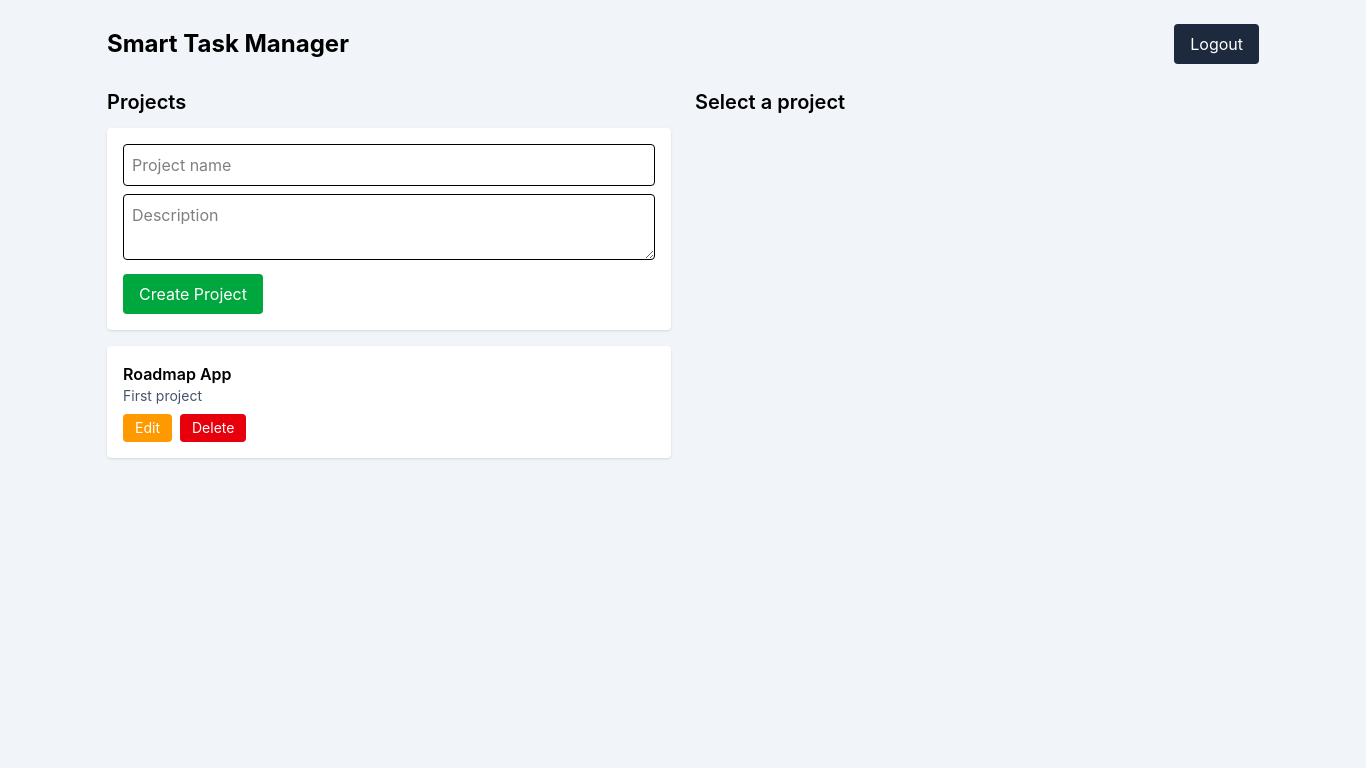
Test case: App integration › saves inline task edits successfully and refreshes the task row
The width and height of the screenshot is (1366, 768).
Click the heading "Roadmap App" at (177, 374), box [123,364,232,384]
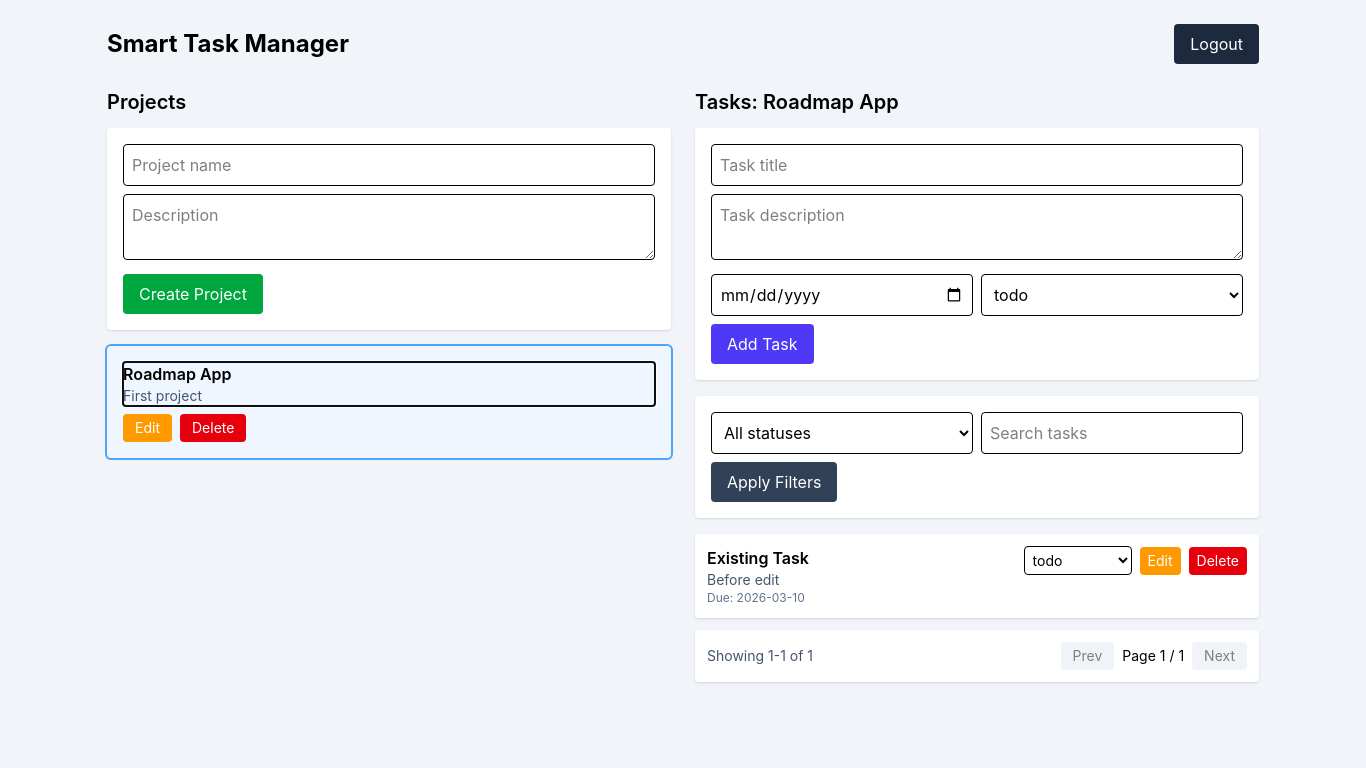
Now the element "Tasks: Roadmap App" is shown, box [695,88,1259,682]
Click the button "Edit" in the row of "Existing Task" at (1160, 560), box [1140,546,1181,574]
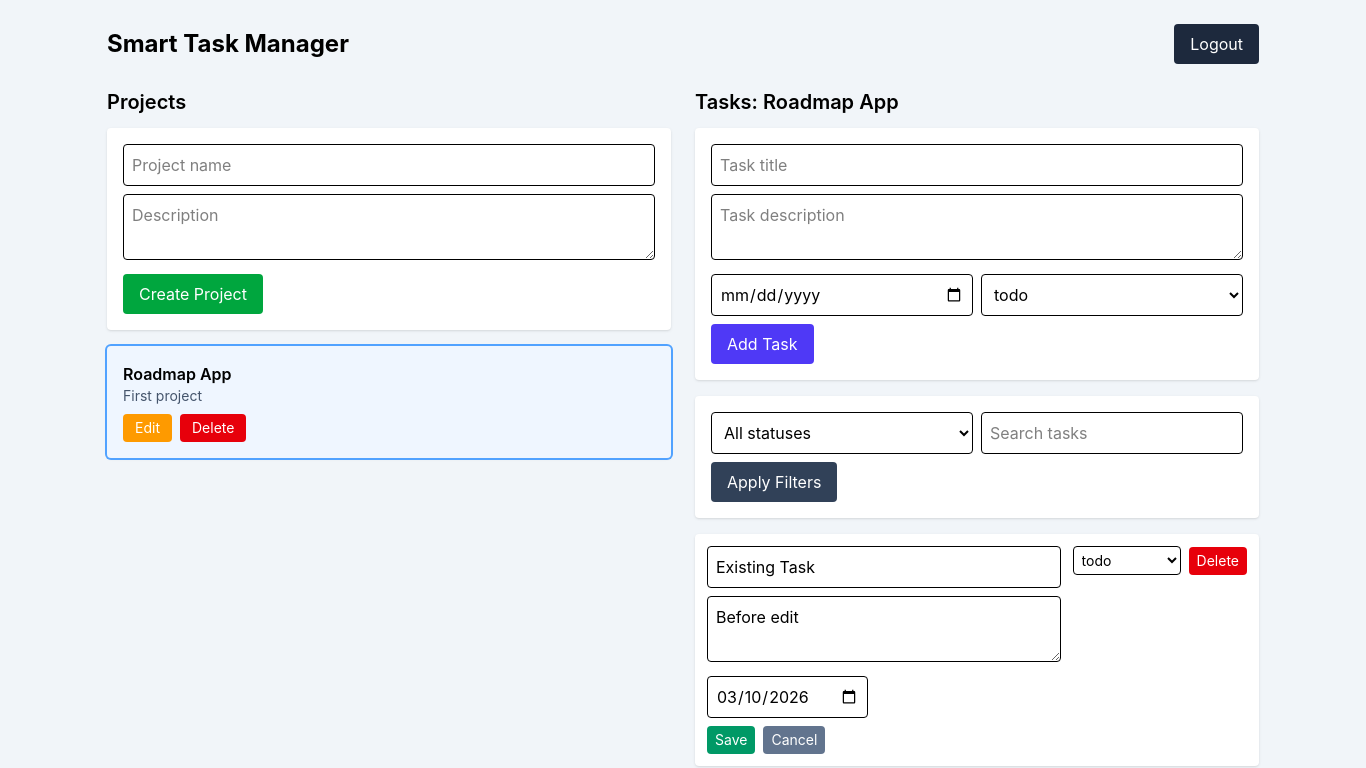
Now the 2nd date field is shown, box [707,676,868,718]
Replace the text in the field showing "Existing Task" with "Edited Task" at (884, 567), box [707,546,1061,588]
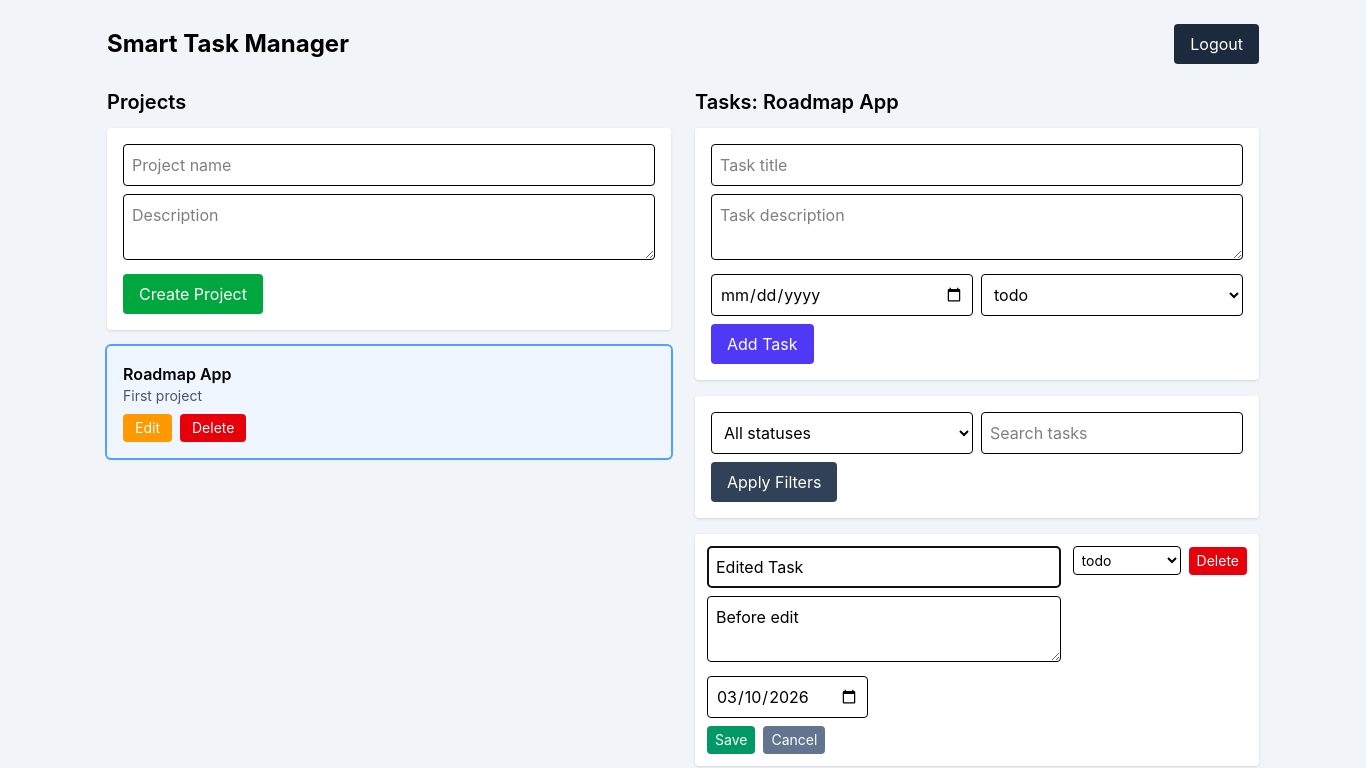
Replace the text in the text box showing "Before edit" with "After edit" at (884, 629), box [707,596,1061,662]
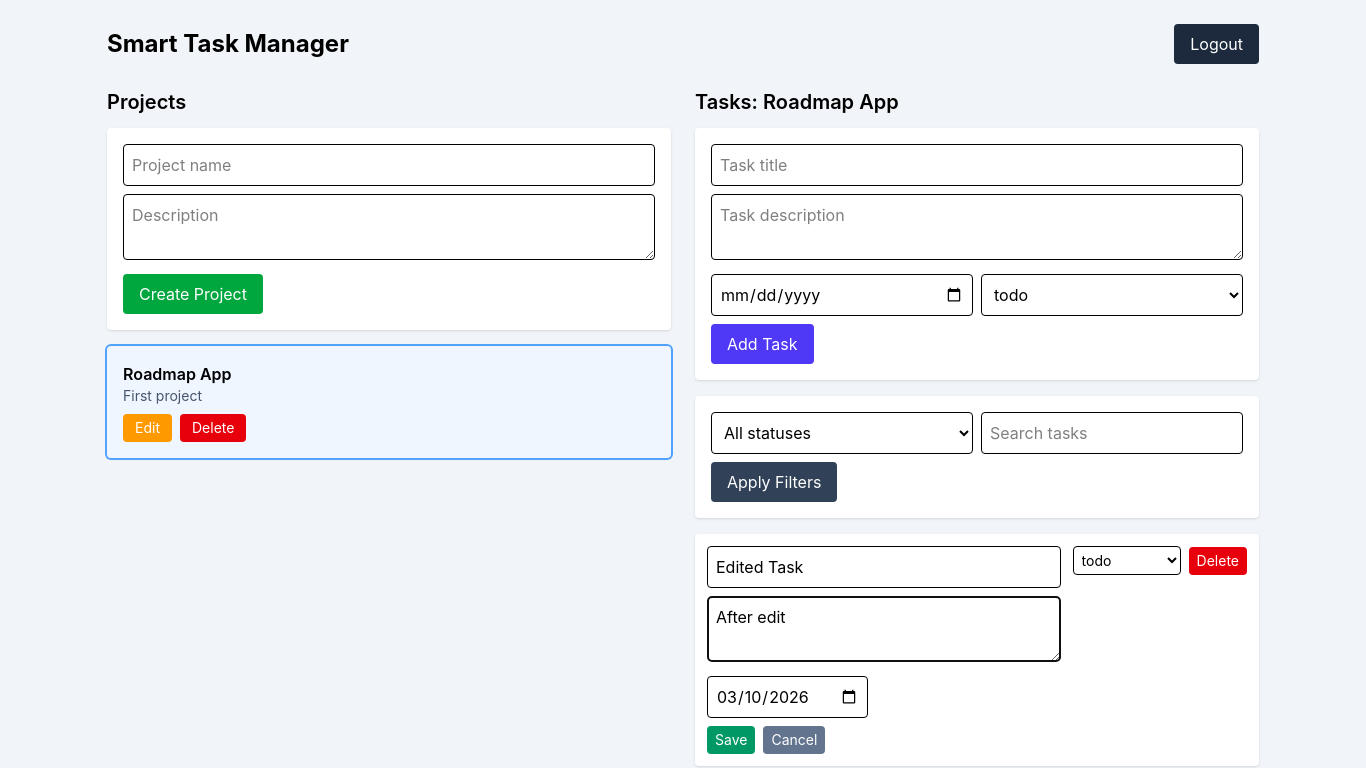
Type "2026-03-12" into the 2nd date field at (788, 697), box [707,676,868,718]
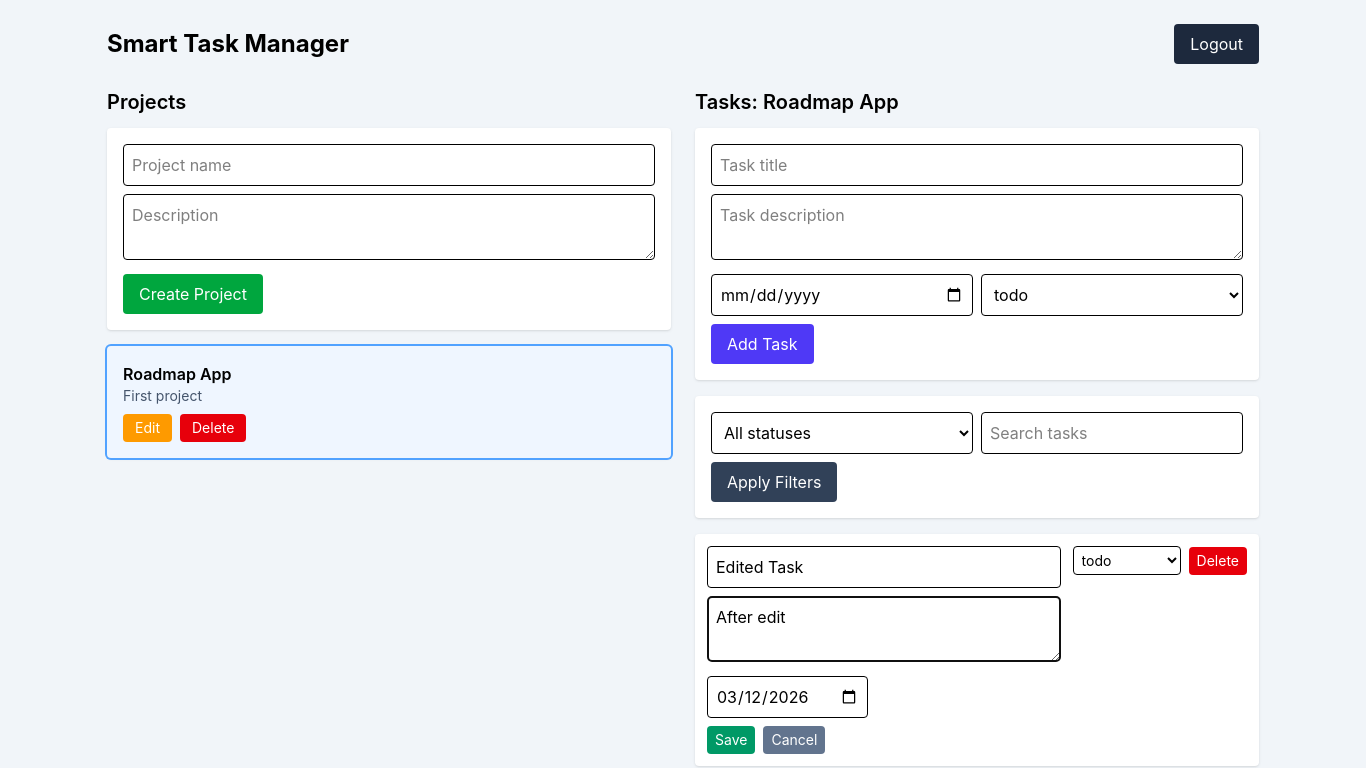
Click the button "Save" at (731, 740), box [707,726,755,754]
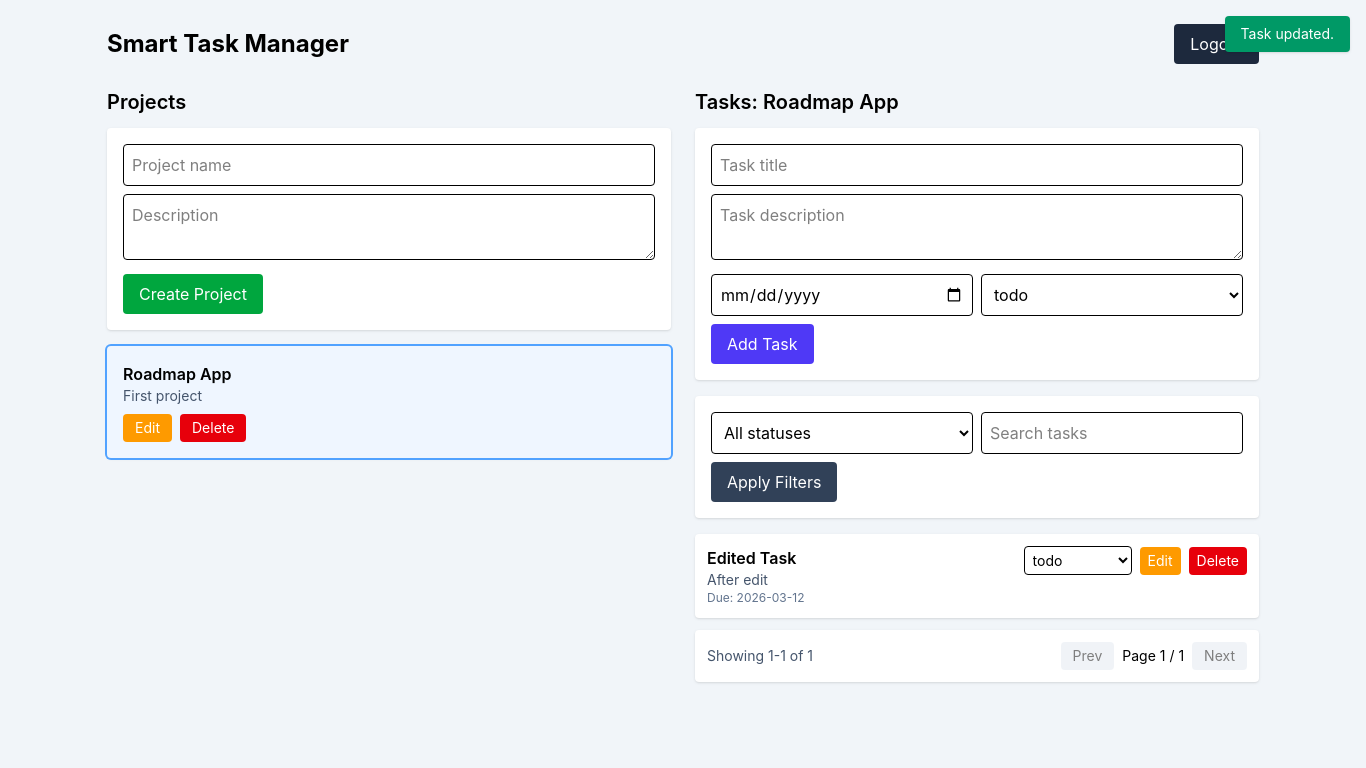
Now the heading "Edited Task" is shown, box [707,548,796,568]
Now the text "After edit" is shown, box [707,571,768,588]
Now the text "Task updated." is shown, box [1225,16,1350,52]
